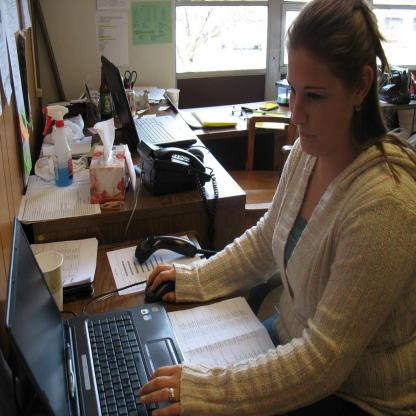board: (5, 217, 186, 415), (100, 53, 197, 146), (41, 108, 74, 188), (35, 251, 64, 314), (165, 88, 180, 110), (124, 71, 137, 87)
